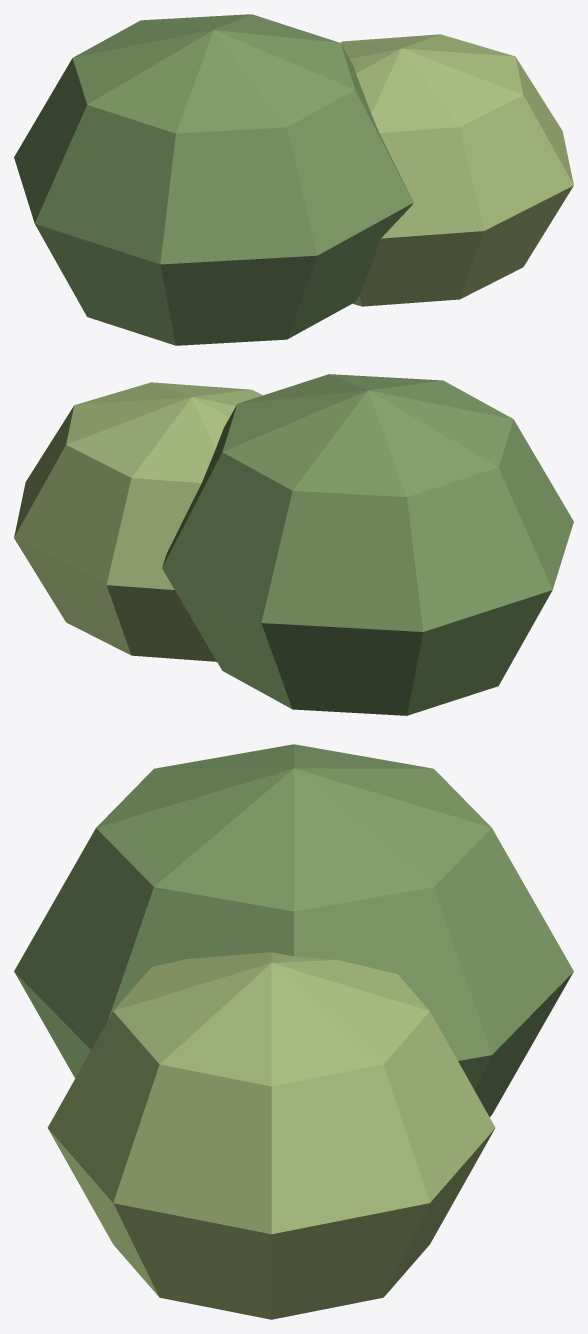
File: bush.glb
3 views of the same model, one above another, from view 1: azimuth 30°, elevation 25°; view 2: azimuth 150°, elevation 25°; view 3: azimuth 270°, elevation 25° (orthographic). The views are drawn at different scales.
Parts seen in each view (by area): view 1: Part0, Part1; view 2: Part0, Part1; view 3: Part1, Part0.
Boxes of the visible parts, box(x1,y1,x2,y2) form: Part0: box(14, 14, 413, 345); Part1: box(340, 34, 573, 306); Part0: box(162, 374, 573, 715); Part1: box(14, 382, 262, 661); Part1: box(47, 952, 495, 1319); Part0: box(14, 744, 573, 1116).
Bounding box in the file's own units: 1.45 × 0.8 × 1.
